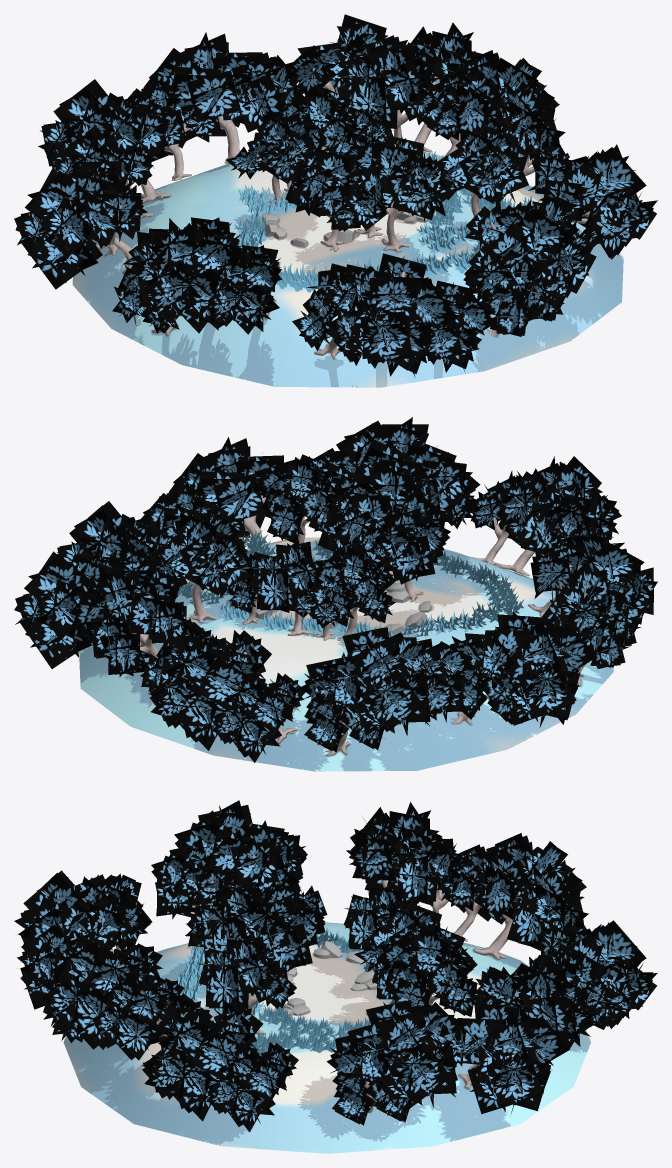
File: single.glb
3 renders of one model, top to bottom at view 1: azimuth 30°, elevation 25°; view 2: azimuth 150°, elevation 25°; view 3: azimuth 270°, elevation 25°, orthographic. The views are drawn at different scales.
Visible parts, largest first — view 1: Cube.078_1; view 2: Cube.078_1; view 3: Cube.078_1.
Boxes of the visible parts, <box> form: Cube.078_1: <box>14,14,657,387</box>; Cube.078_1: <box>14,417,657,771</box>; Cube.078_1: <box>14,800,657,1153</box>.
Size of the model in its own units: 38.49 by 11.06 by 41.59.
Materials: 5 (4 with a texture image).
